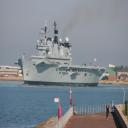Portanaves: (13, 19, 107, 89)
